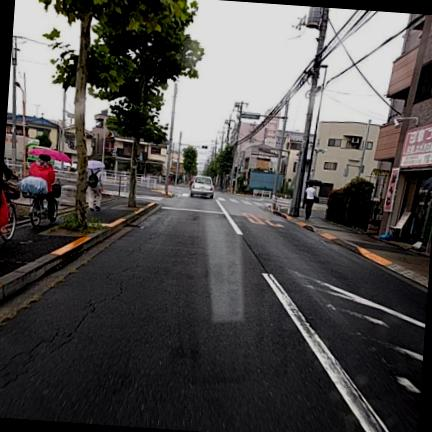Road: (0, 193, 427, 431)
